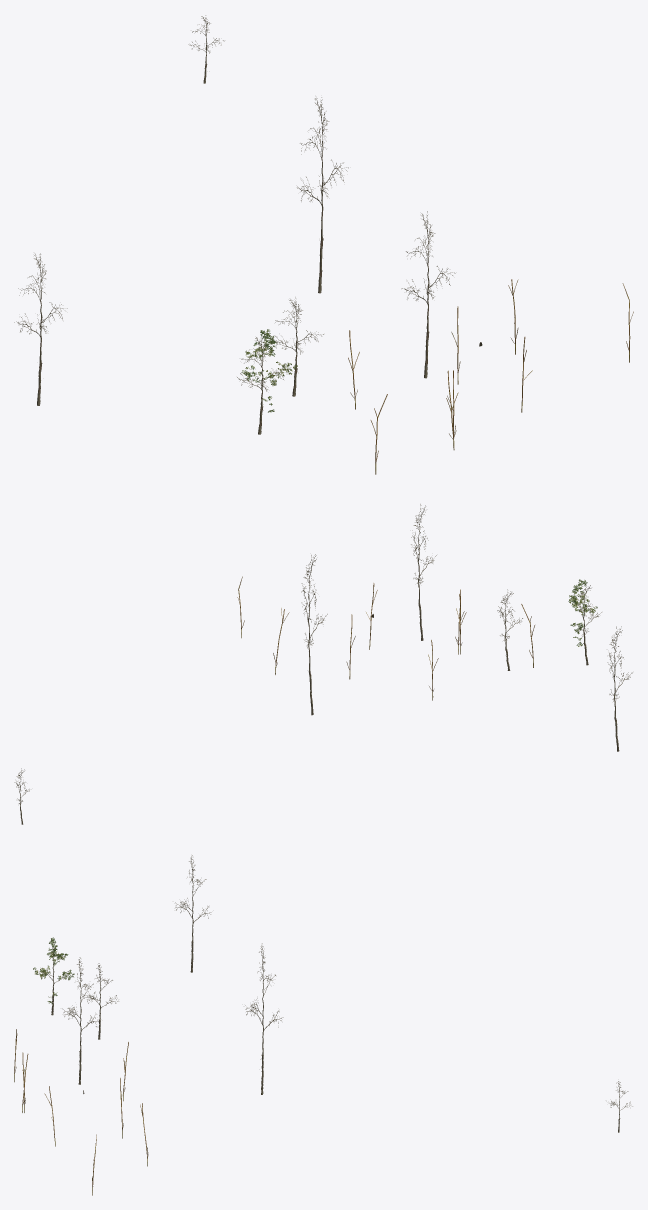
The model's file is Plantas_1.glb.
The picture shows the model from 3 angles, top to bottom: view 1: azimuth 30°, elevation 25°; view 2: azimuth 150°, elevation 25°; view 3: azimuth 270°, elevation 25°; orthographic projection. The views are drawn at different scales.
Parts seen in each view (by area): view 1: Bark_Mat.004, Leaf_1_Mat.002, Bark_Mat, Bark_Mat.001; view 2: Bark_Mat.004, Leaf_1_Mat.002, Bark_Mat, Bark_Mat.001; view 3: Bark_Mat.004, Bark_Mat.
Boxes of the visible parts, x1,y1,x2,y2 form: Bark_Mat.004: (297, 97, 348, 293); Leaf_1_Mat.002: (241, 329, 297, 412); Bark_Mat: (401, 211, 455, 378); Bark_Mat.001: (14, 253, 67, 405); Bark_Mat.004: (301, 554, 327, 715); Leaf_1_Mat.002: (568, 579, 597, 646); Bark_Mat: (411, 504, 436, 640); Bark_Mat.001: (607, 626, 632, 751); Bark_Mat.004: (245, 943, 283, 1094); Bark_Mat: (62, 957, 100, 1084).
Bounding box in the file's own units: 82.45 × 34.18 × 107.
20 materials, 20 textured.
